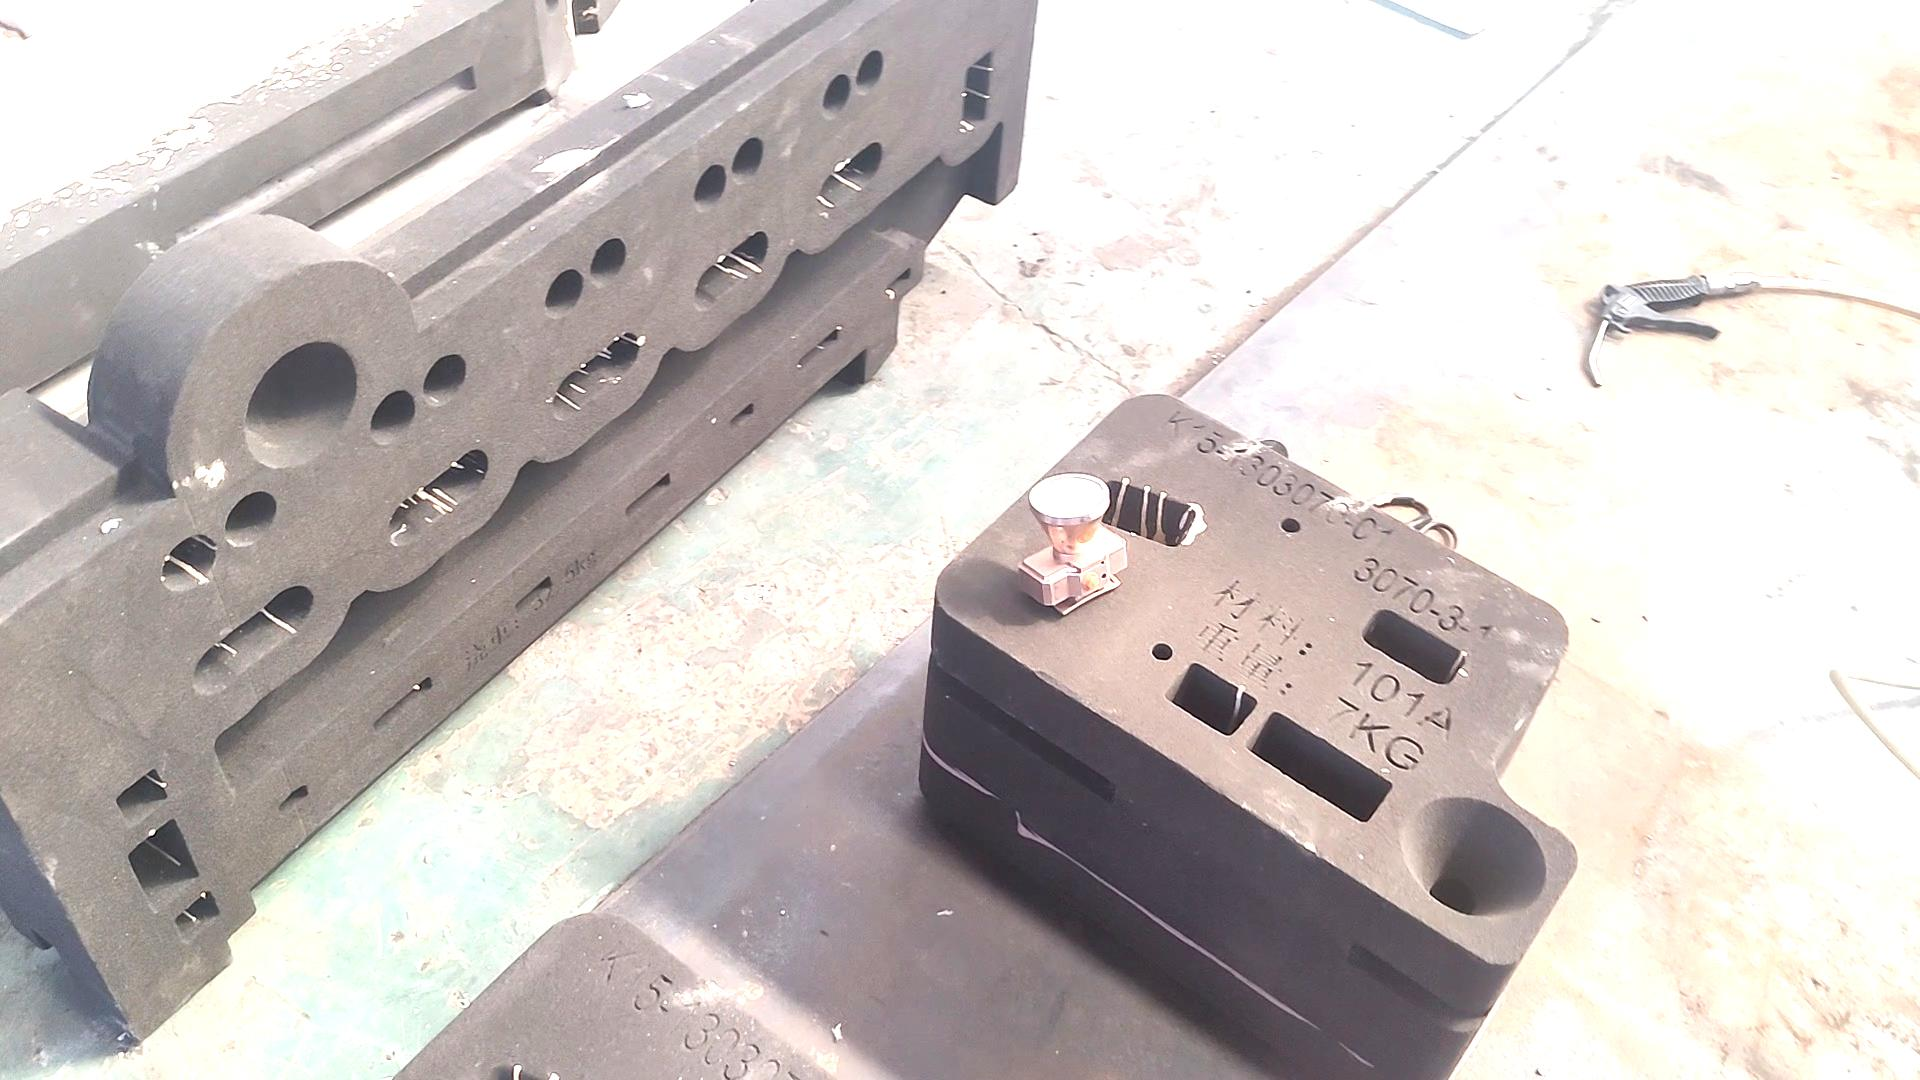pouring hole: (1403, 795, 1548, 920), (245, 340, 359, 468)
